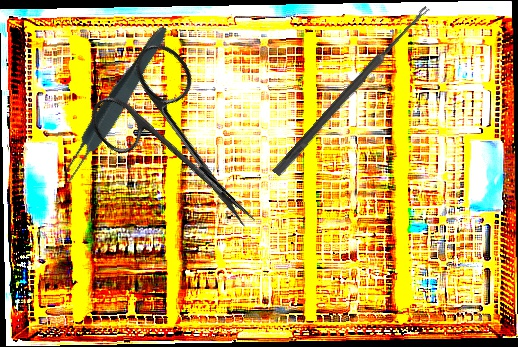Iris Scissors: (75, 35, 296, 261)
Surgical Spoon: (272, 3, 431, 178)
Tissue Forceps: (54, 21, 174, 188)
